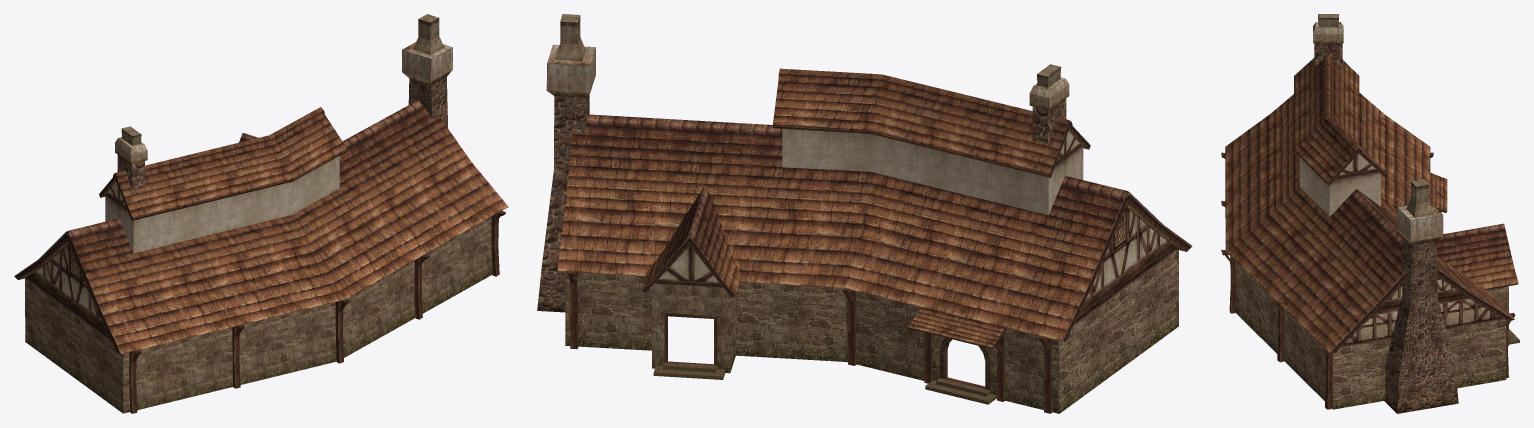
Rendered from ti_shop_03.glb.
3 views of the same model, side by side, from view 1: azimuth 30°, elevation 25°; view 2: azimuth 150°, elevation 25°; view 3: azimuth 270°, elevation 25° (orthographic). The views are drawn at different scales.
Visible parts, largest first — view 1: TI_Shop_03; view 2: TI_Shop_03; view 3: TI_Shop_03.
Part boxes in pixels (box(x1,y1,x2,y2)): TI_Shop_03: box(14, 14, 508, 413); TI_Shop_03: box(537, 14, 1192, 413); TI_Shop_03: box(1221, 14, 1519, 413).
Size of the model in its own units: 9.97 by 5.03 by 6.11.
Materials: 22 (22 with a texture image).
